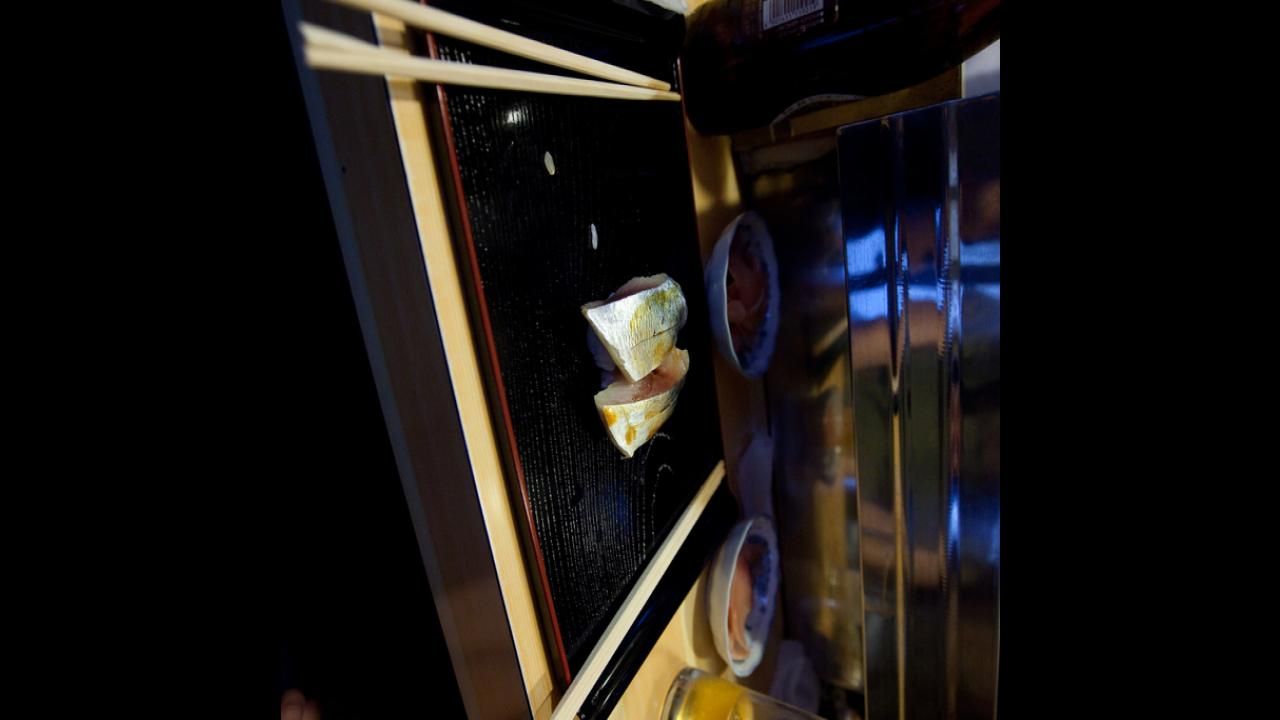chopstick: (511, 459, 726, 720), (280, 0, 679, 100)
